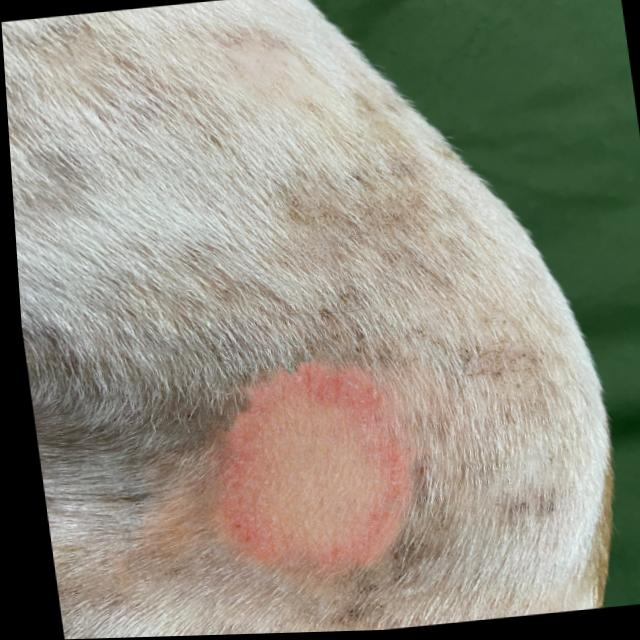ringworm: (195, 337, 453, 607)
